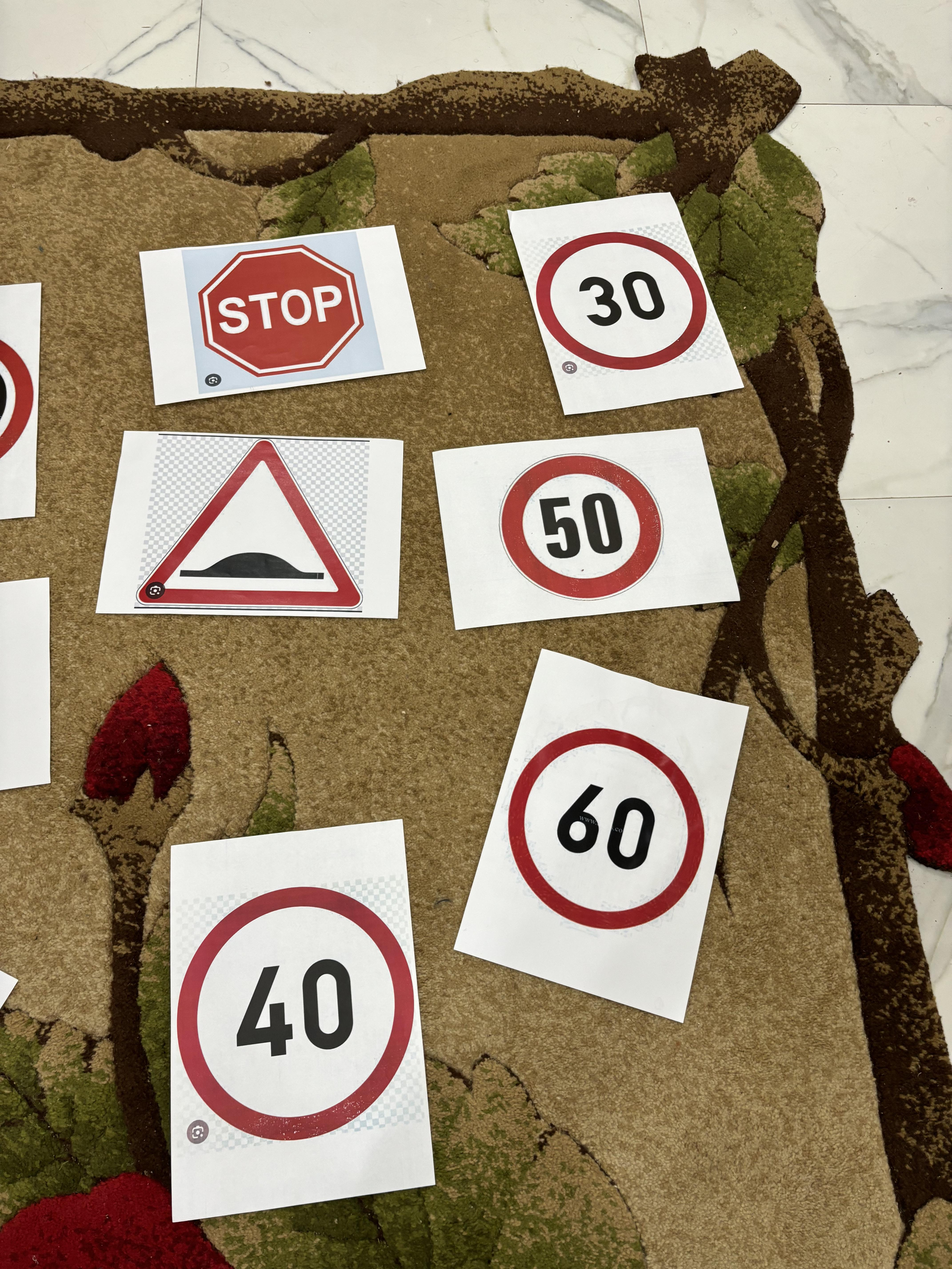30-speed: (529, 225, 709, 371)
40-Speed: (173, 885, 414, 1148)
50-Speed: (491, 451, 669, 598)
60-Speed: (504, 718, 712, 933)
Hump: (141, 436, 365, 611)
Stop: (196, 238, 374, 380)
